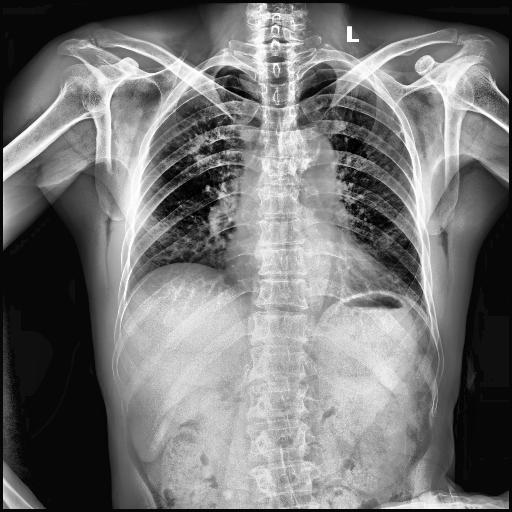0- Aortic enlargement: (287, 126, 336, 196), (280, 128, 336, 185), (288, 128, 334, 186)
13- Pulmonary fibrosis: (154, 112, 232, 186), (153, 108, 231, 180), (180, 109, 214, 170), (386, 128, 402, 142)
3- Cardiomegaly: (224, 248, 393, 300), (224, 245, 389, 294)
6- Infiltration: (154, 112, 232, 186), (153, 108, 231, 180), (364, 130, 410, 174), (362, 127, 402, 175)
7- Lung Opacity: (364, 130, 410, 174)
